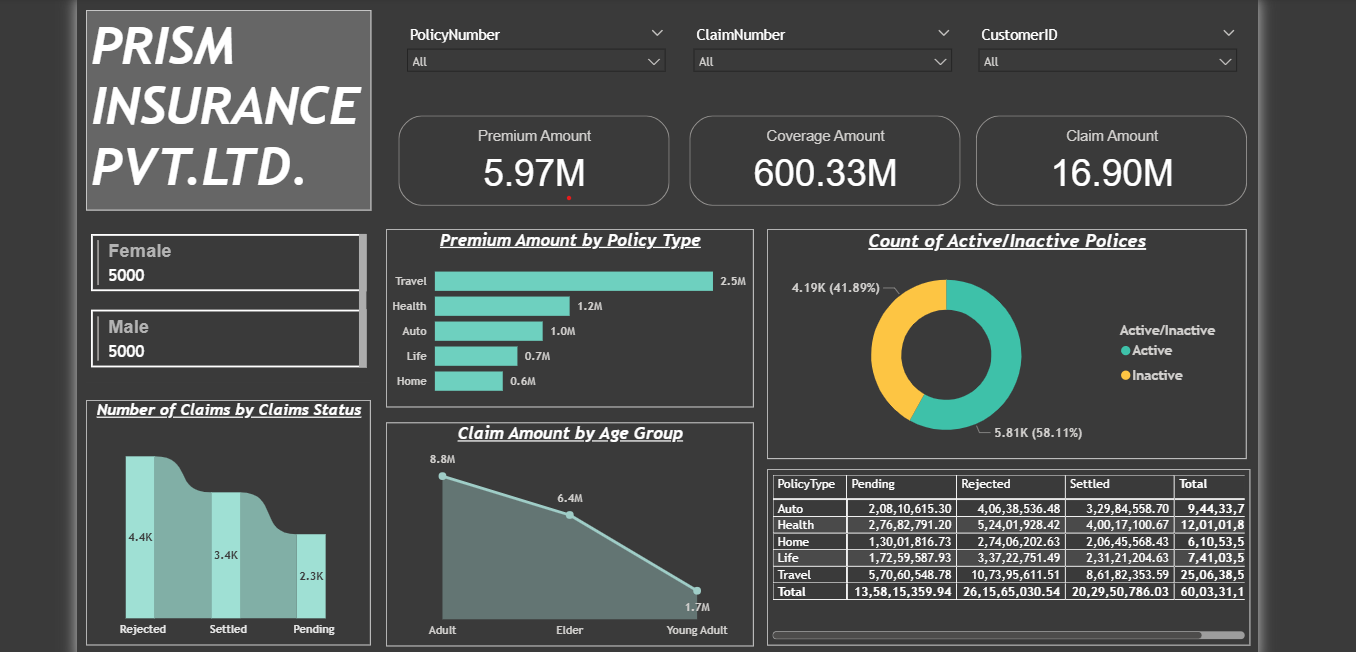

What the dashboard file says about the page in this screenshot:
{"tool":"powerbi","page":{"name":"Page 1","canvas":[1280,720],"ordinal":0},"visuals":[{"type":"slicer","fields":{"Values":["InsuranceData.PolicyNumber"]},"box":[347.3,24.5,300.2,85.2],"z":0},{"type":"slicer","fields":{"Values":["InsuranceData.ClaimNumber"]},"box":[659.2,24.5,300.2,85.2],"z":1000},{"type":"slicer","fields":{"Values":["InsuranceData.CustomerID"]},"box":[968.5,24.5,300.2,85.2],"z":2000},{"type":"textbox","box":[10,12.7,309.2,217.6],"z":3000},{"type":"cardVisual","fields":{"Data":["Sum(InsuranceData.PremiumAmount)"]},"box":[342.9,121.2,304.3,108.6],"z":4000},{"type":"cardVisual","fields":{"Data":["Sum(InsuranceData.CoverageAmount)"]},"box":[659,121.2,304.3,108.6],"z":5000},{"type":"cardVisual","fields":{"Data":["Sum(InsuranceData.ClaimAmount)"]},"box":[968.7,121.2,304.3,108.6],"z":6000},{"type":"multiRowCard","fields":{"Values":["InsuranceData.Gender","CountNonNull(InsuranceData.Gender)"]},"box":[9.9,250.5,308.8,167],"z":7000},{"type":"ribbonChart","title":"Number of Claims by Claims Status ","fields":{"Category":["InsuranceData.ClaimStatus"],"Y":["CountNonNull(InsuranceData.ClaimStatus)"]},"box":[9.9,436.3,308.8,265.7],"z":8000},{"type":"barChart","title":"Premium Amount by Policy Type","fields":{"Category":["InsuranceData.PolicyType"],"Y":["Sum(InsuranceData.PremiumAmount)"]},"box":[335.8,250.5,398.6,193],"z":9000},{"type":"lineChart","title":"Claim Amount by Age Group","fields":{"Category":["InsuranceData.Age Group"],"Y":["Sum(InsuranceData.ClaimAmount)"]},"box":[335.8,459.7,398.6,242.4],"z":10000},{"type":"donutChart","title":"Count of Active/Inactive  Polices","fields":{"Category":["InsuranceData.Active/Inactive "],"Y":["CountNonNull(InsuranceData.Active/Inactive )"]},"box":[748.7,250.5,519.8,249.6],"z":11000},{"type":"pivotTable","fields":{"Columns":["InsuranceData.ClaimStatus"],"Rows":["InsuranceData.PolicyType"],"Values":["Sum(InsuranceData.CoverageAmount)"]},"box":[748.7,510.8,524.3,191.2],"z":12000}]}

Visuals, with their boxes on the page's 1280x720 design canvas (x1, y1, x2, y2). These are canvas units, not pixel positions in the 1356x652 screenshot, which may show the page scaled, cropped or inside an application window:
slicer - InsuranceData.PolicyNumber: [347,24,648,110]
slicer - InsuranceData.ClaimNumber: [659,24,959,110]
slicer - InsuranceData.CustomerID: [968,24,1269,110]
textbox: [10,13,319,230]
cardVisual - Sum(InsuranceData.PremiumAmount): [343,121,647,230]
cardVisual - Sum(InsuranceData.CoverageAmount): [659,121,963,230]
cardVisual - Sum(InsuranceData.ClaimAmount): [969,121,1273,230]
multiRowCard - InsuranceData.Gender x CountNonNull(InsuranceData.Gender): [10,250,319,418]
"Number of Claims by Claims Status " ribbonChart: [10,436,319,702]
"Premium Amount by Policy Type" barChart: [336,250,734,444]
"Claim Amount by Age Group" lineChart: [336,460,734,702]
"Count of Active/Inactive  Polices" donutChart: [749,250,1268,500]
pivotTable - InsuranceData.ClaimStatus x InsuranceData.PolicyType: [749,511,1273,702]
